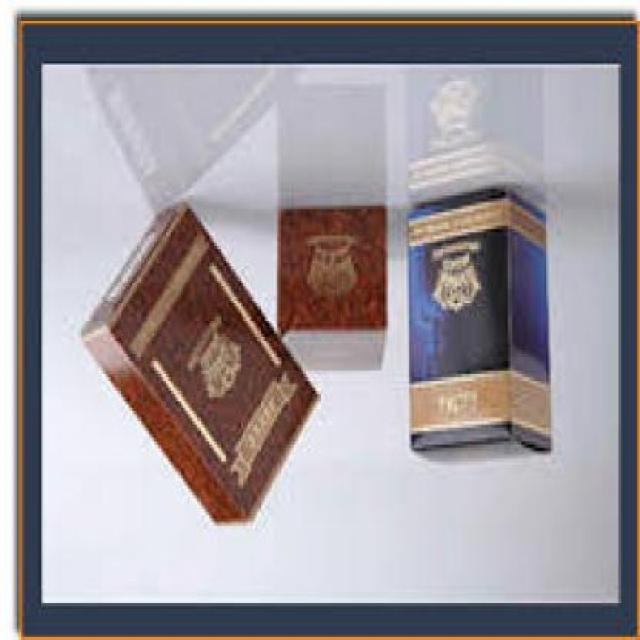CARDBOARD: (84, 208, 321, 528), (409, 188, 554, 466), (276, 206, 390, 374)
